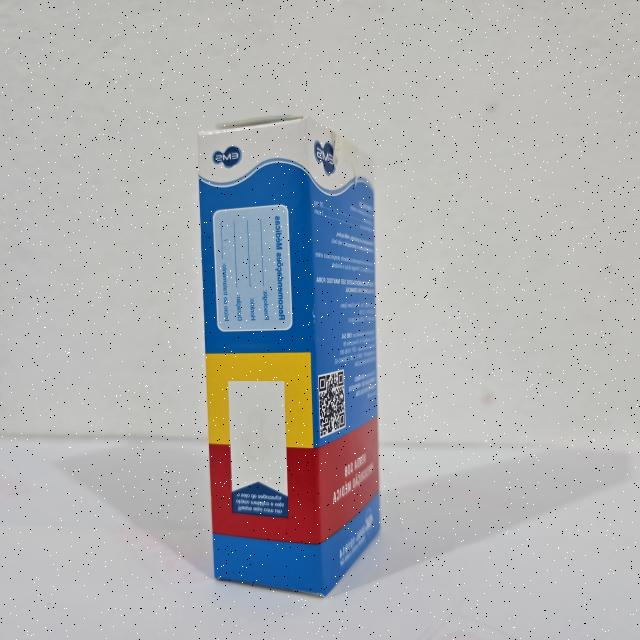prednisona: (193, 110, 384, 603)
